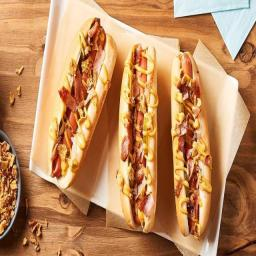hotdog: (43, 16, 119, 190), (170, 40, 211, 234), (120, 42, 158, 230)
